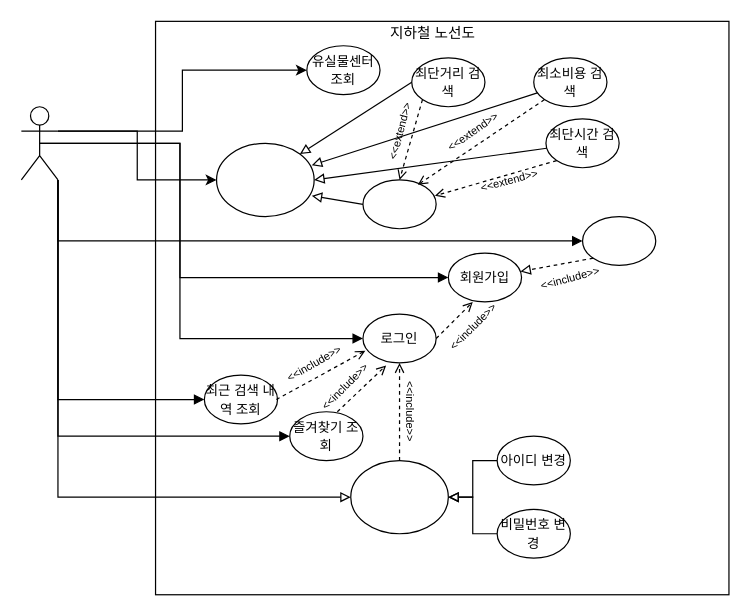
This 750x616 diagram has some shape labels left out. Each missing label, with the centre of its shape:
"User" goes at [39,143].
"길찾기 확장 사항 경로 탐색 방법" goes at [264,179].
"비밀번호 찾기" goes at [618,240].
"정거장 경유" goes at [399,204].
"회원 정보 수정 확장 사항 수정할 정보" goes at [399,496].
